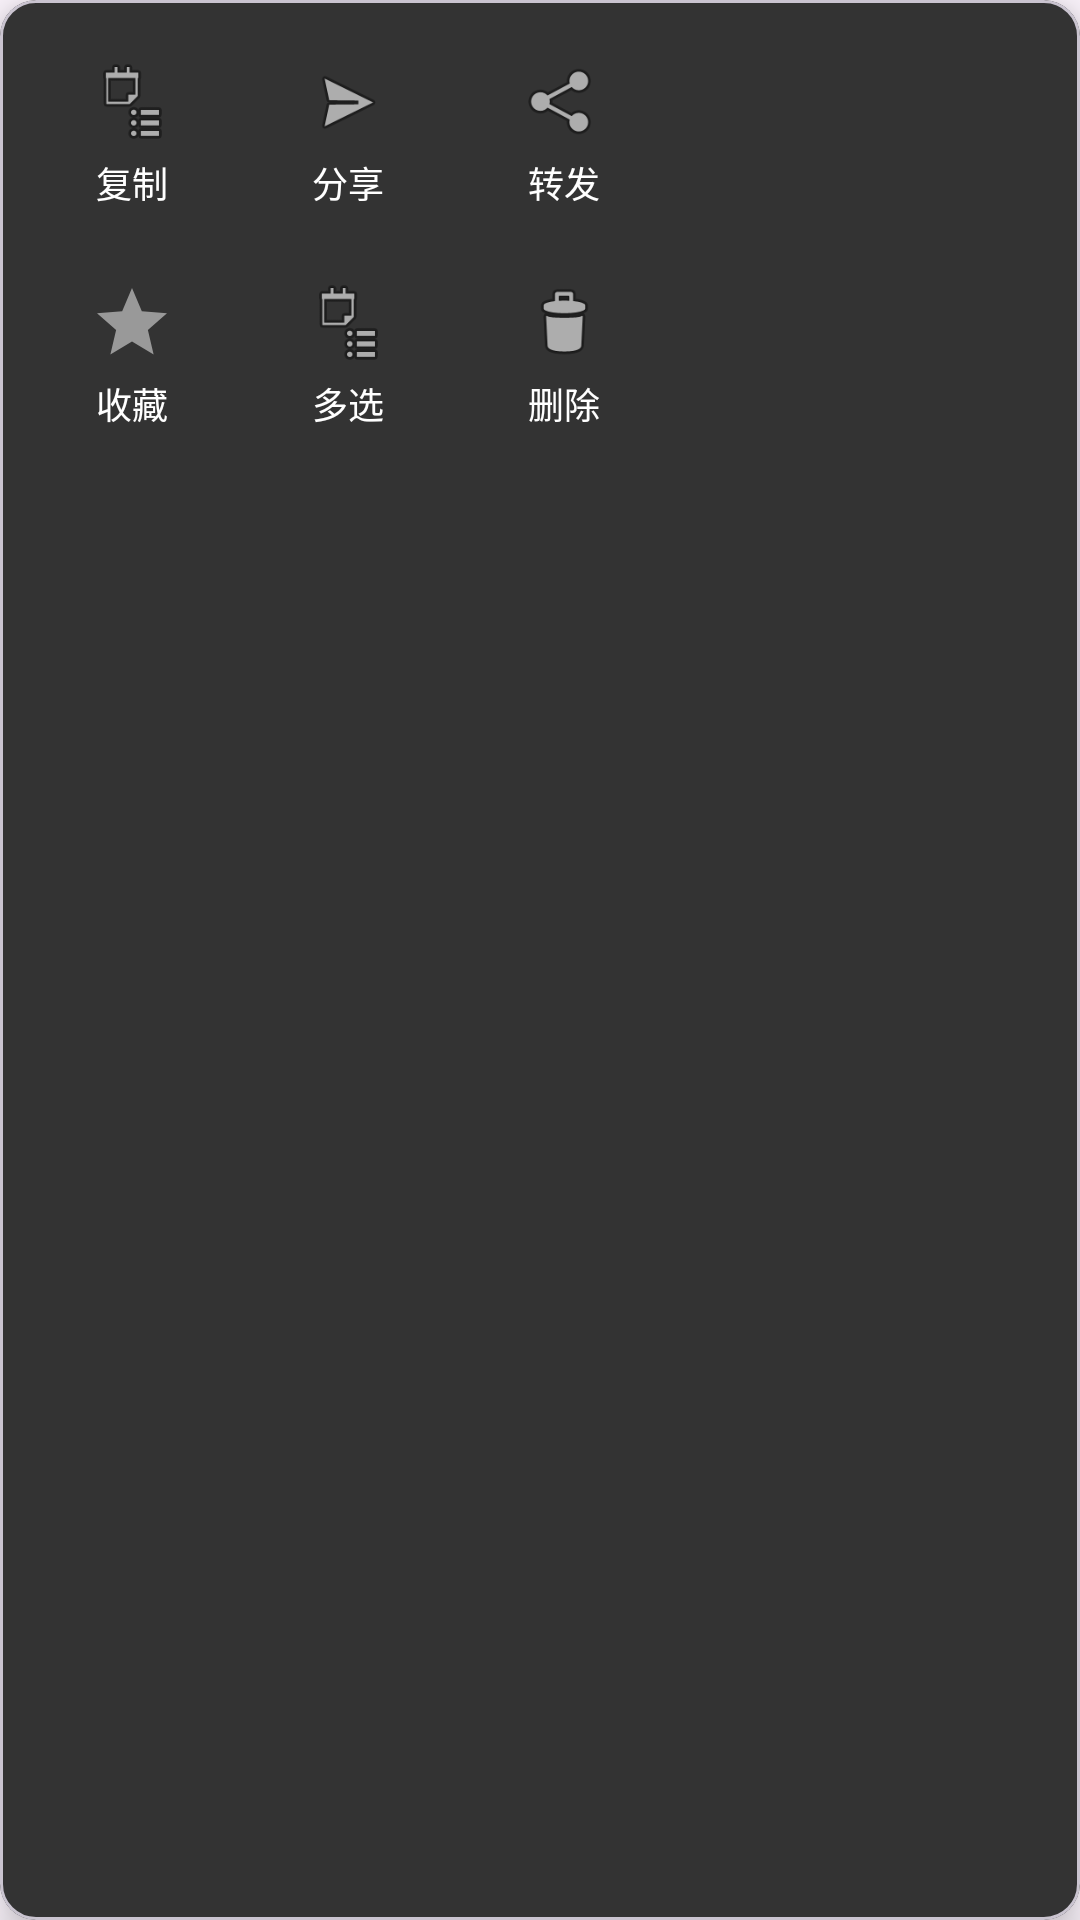

Named icons in this screenshot (1080 x 1920) and their centers, (x=x, y=y):
agenda: (x=133, y=101), (x=349, y=322)
send: (x=348, y=102)
share: (x=559, y=102)
